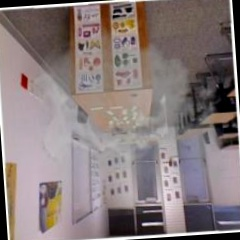smoke: (45, 68, 188, 159)
